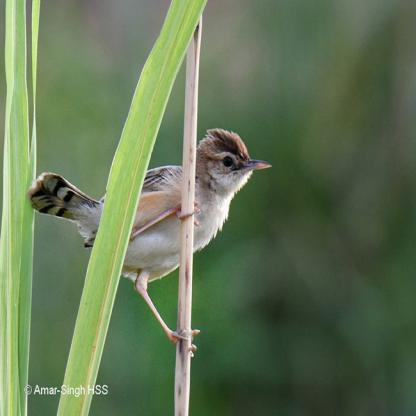Burung: (29, 127, 272, 356)
